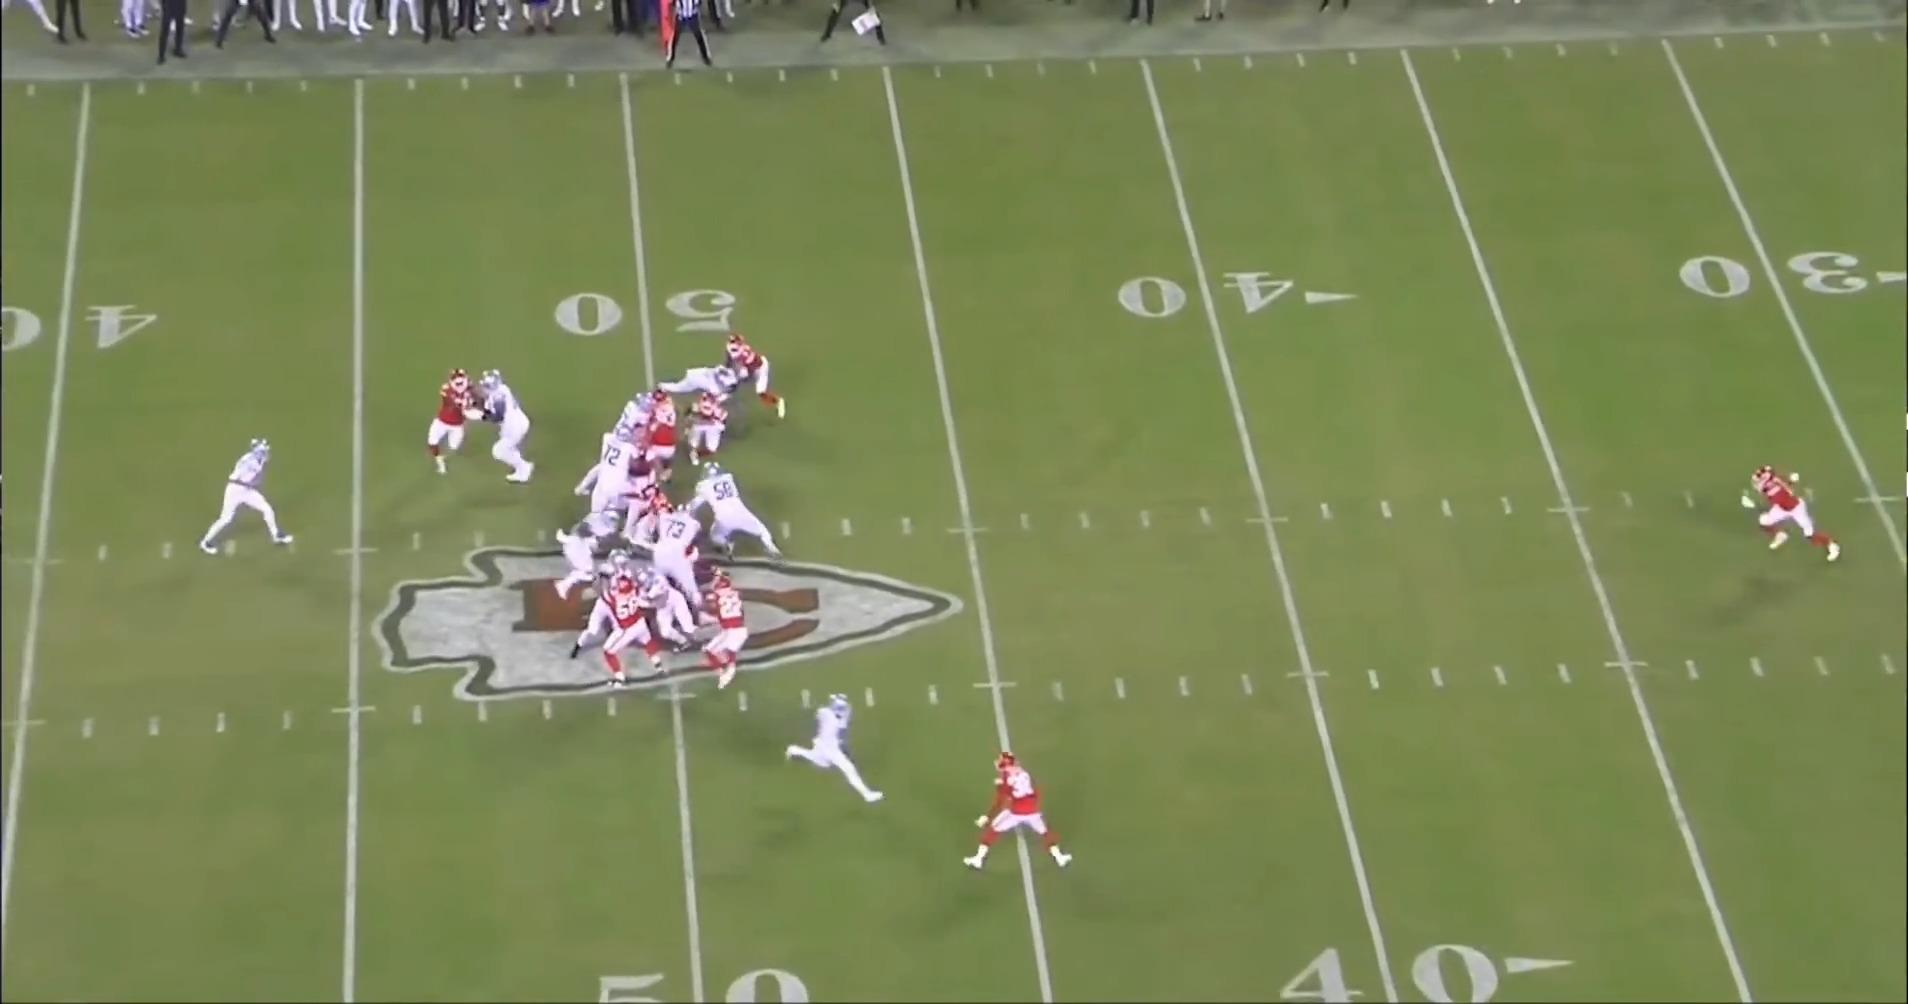player: (966, 754, 1076, 874), (191, 429, 290, 557), (784, 691, 886, 812), (1738, 458, 1838, 561), (568, 387, 653, 504), (562, 432, 645, 548), (700, 463, 788, 570), (559, 553, 634, 665), (474, 368, 538, 489), (553, 503, 628, 606), (636, 566, 709, 667), (651, 501, 713, 619), (601, 582, 661, 692), (699, 573, 752, 692), (418, 365, 470, 477), (716, 336, 781, 422), (633, 484, 700, 563), (634, 398, 678, 497), (686, 387, 733, 474), (657, 361, 742, 400), (628, 419, 659, 488)
ref: (662, 0, 727, 72)
